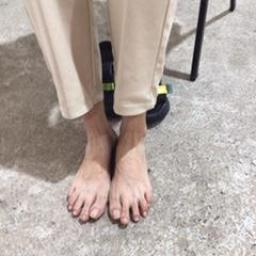Front View -Both Feet-: (60, 97, 160, 230)
